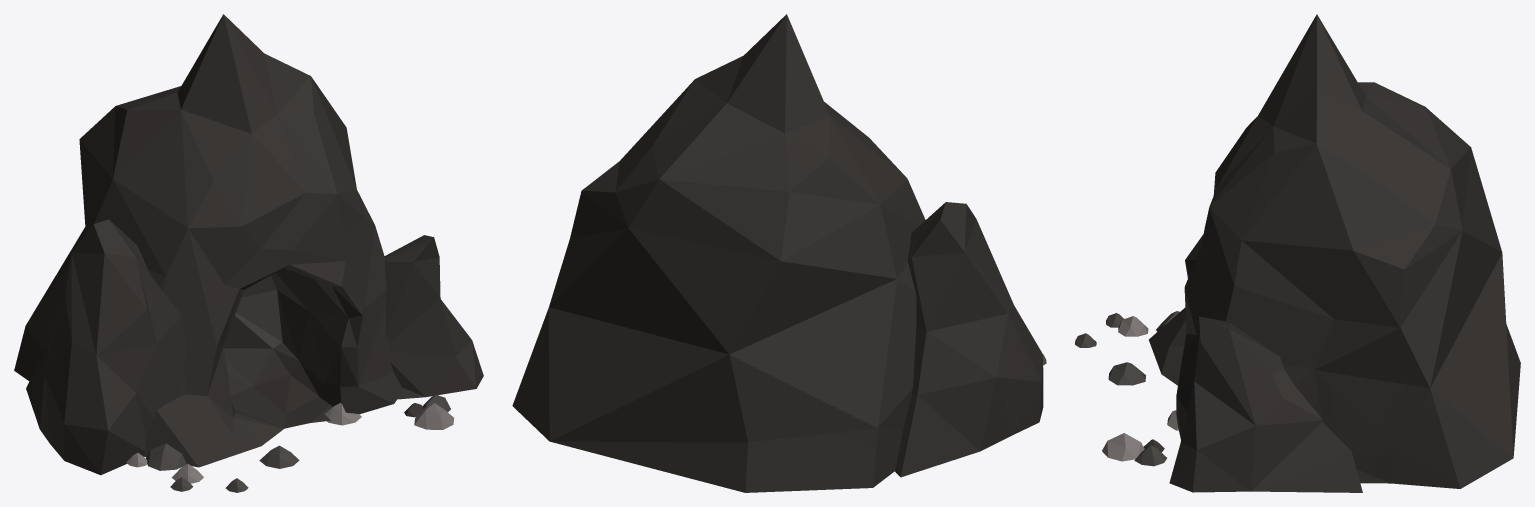
The model's file is cave.fbx.
The picture shows the model from 3 angles, left to right: view 1: azimuth 30°, elevation 25°; view 2: azimuth 150°, elevation 25°; view 3: azimuth 270°, elevation 25°; orthographic projection. The views are drawn at different scales.
Parts seen in each view (by area): view 1: cave; view 2: cave; view 3: cave.
Boxes of the visible parts, bbox=[...] form: cave: bbox=[14, 14, 483, 492]; cave: bbox=[512, 14, 1046, 492]; cave: bbox=[1075, 14, 1520, 492].
Size of what is drawn, in the model's own units: 2.78 by 2.53 by 2.6.
1 material, 1 textured.
